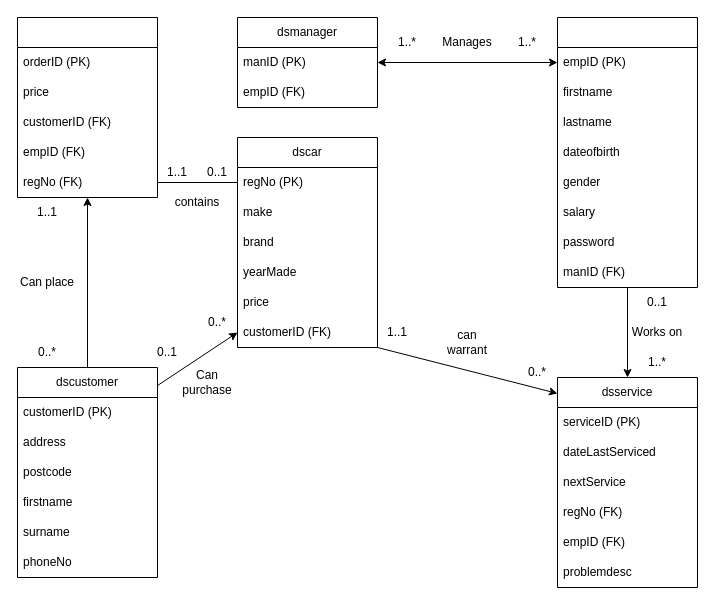
Image size: 715x605. Some labels were removed from this diagram. The box of each missing label's shape, as (x1, y1, x2, y2) in pixels:
dsemployee: (556, 16, 698, 288)
dsorder: (16, 16, 158, 198)
